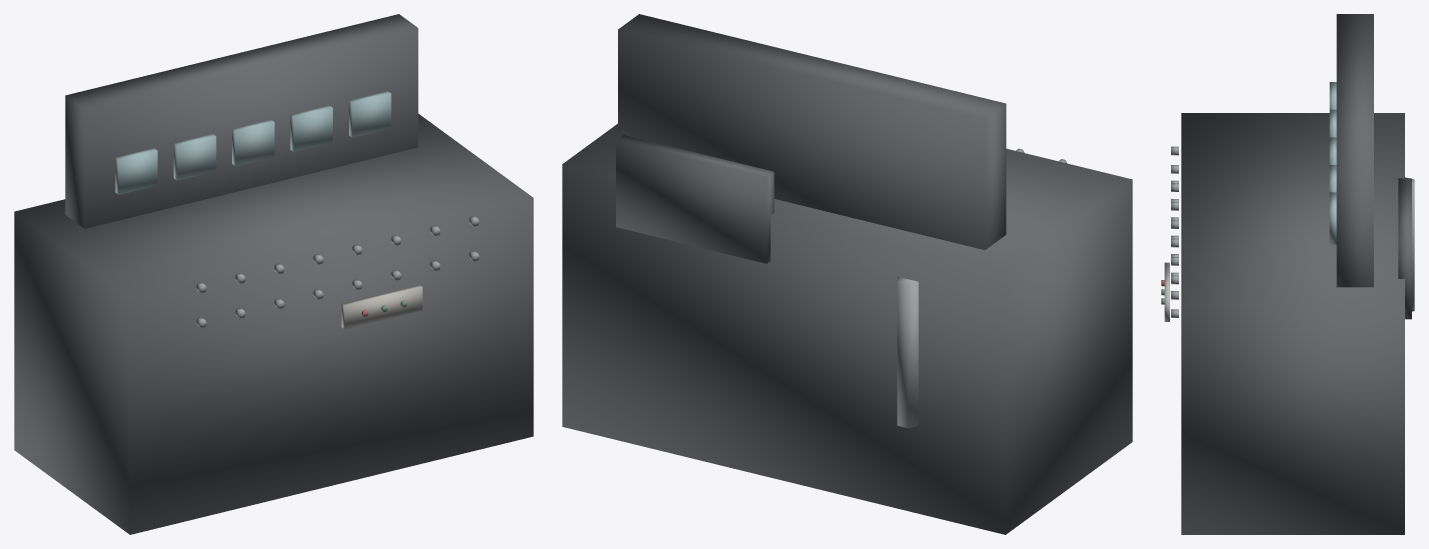
File: radio_console__service.glb
3 renders of one model, left to right at view 1: azimuth 30°, elevation 25°; view 2: azimuth 150°, elevation 25°; view 3: azimuth 270°, elevation 25°, orthographic. The views are drawn at different scales.
Visible parts, largest first — view 1: world; view 2: world; view 3: world.
Boxes of the visible parts, x1,y1,x2,y2 form: world: (14,14,533,534); world: (562,14,1132,534); world: (1161,14,1414,534).
Size of the model in its own units: 1.45 by 1.23 by 0.8138.
